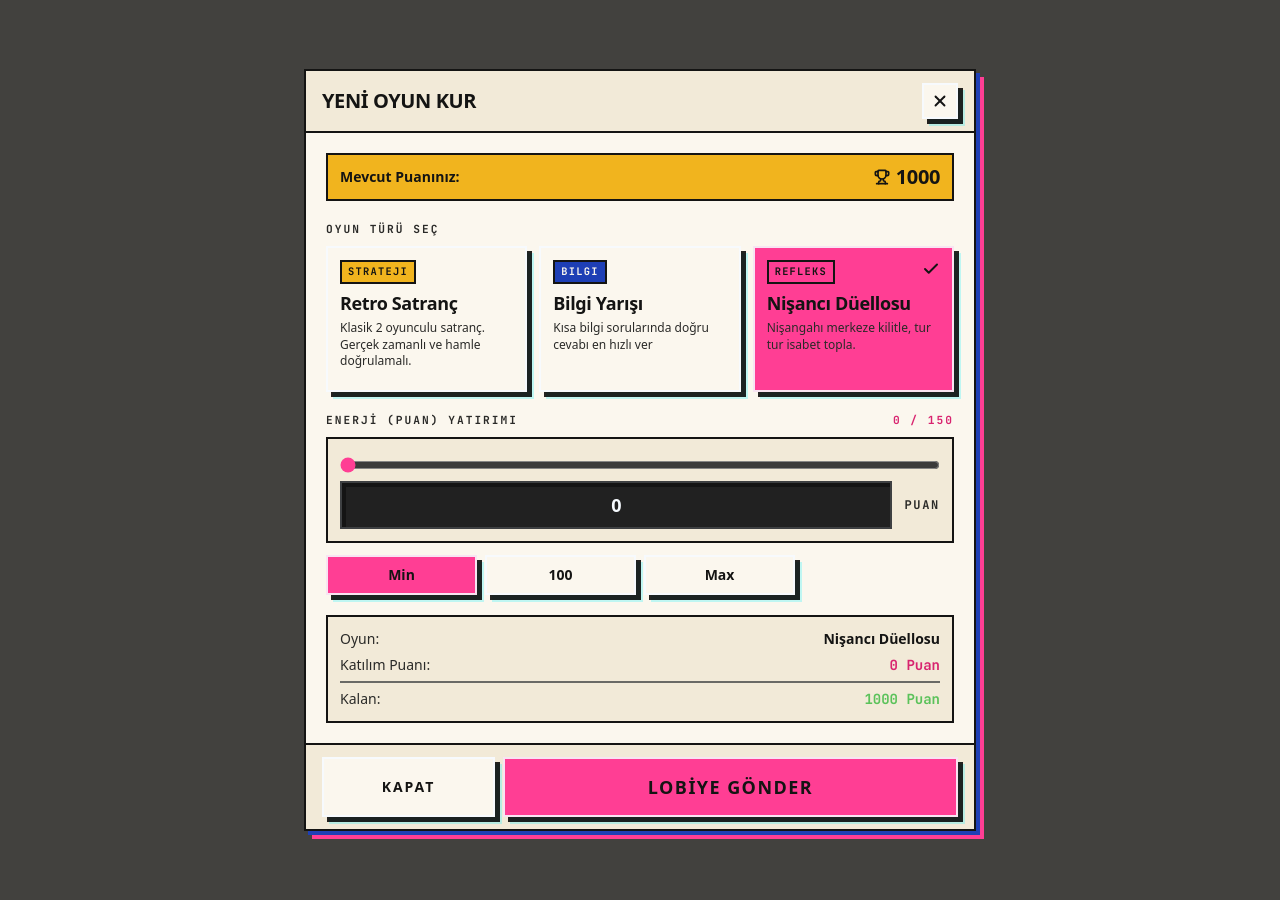
CreateGameModal › Summary Updates › calculates remaining points correctly (PR #36 caps form max at 150)
Replace the text in the number field with test id "game-points-input" with "100" at (616, 505), box [340, 481, 892, 529]
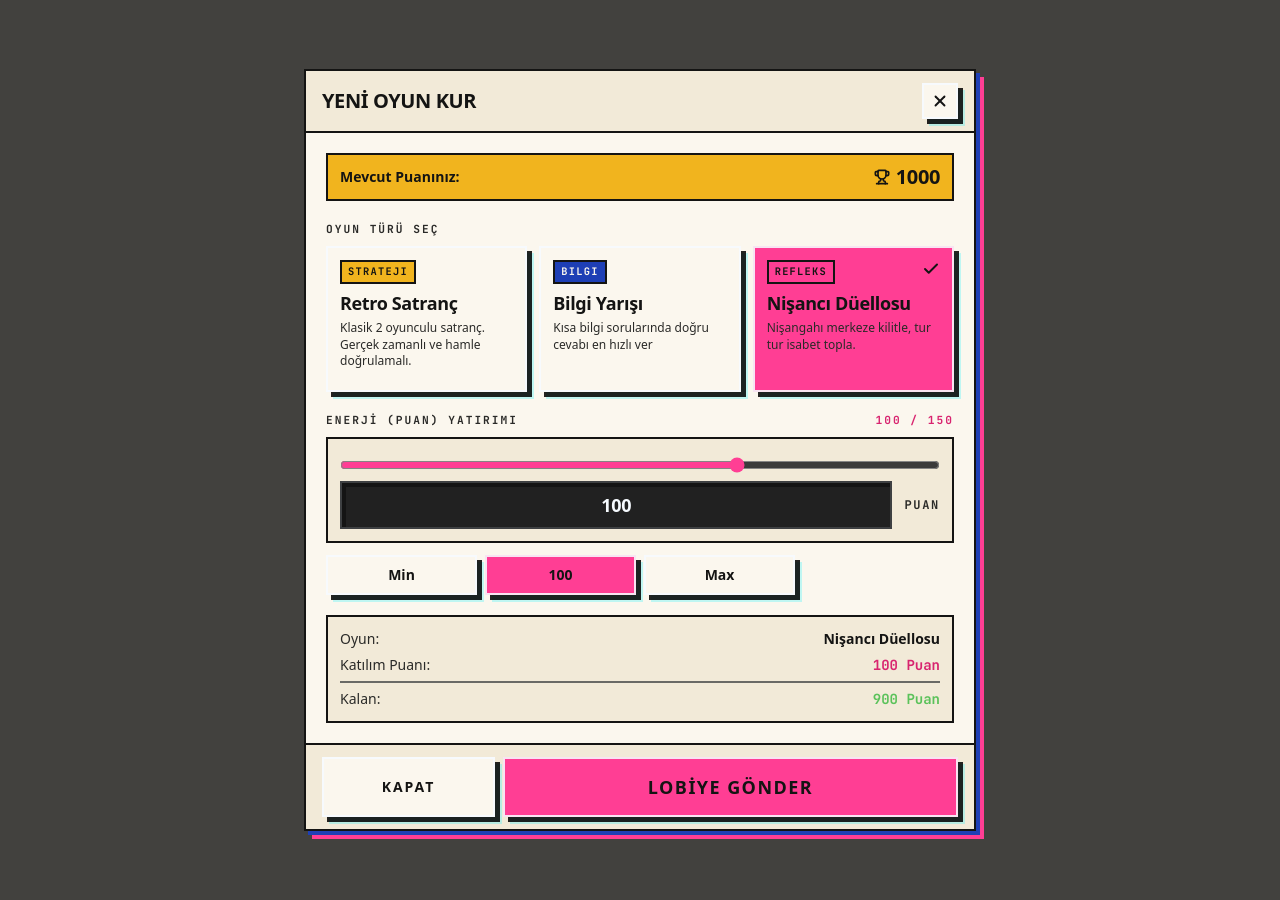
Now the text "900 Puan" is shown, box [873, 689, 940, 709]
